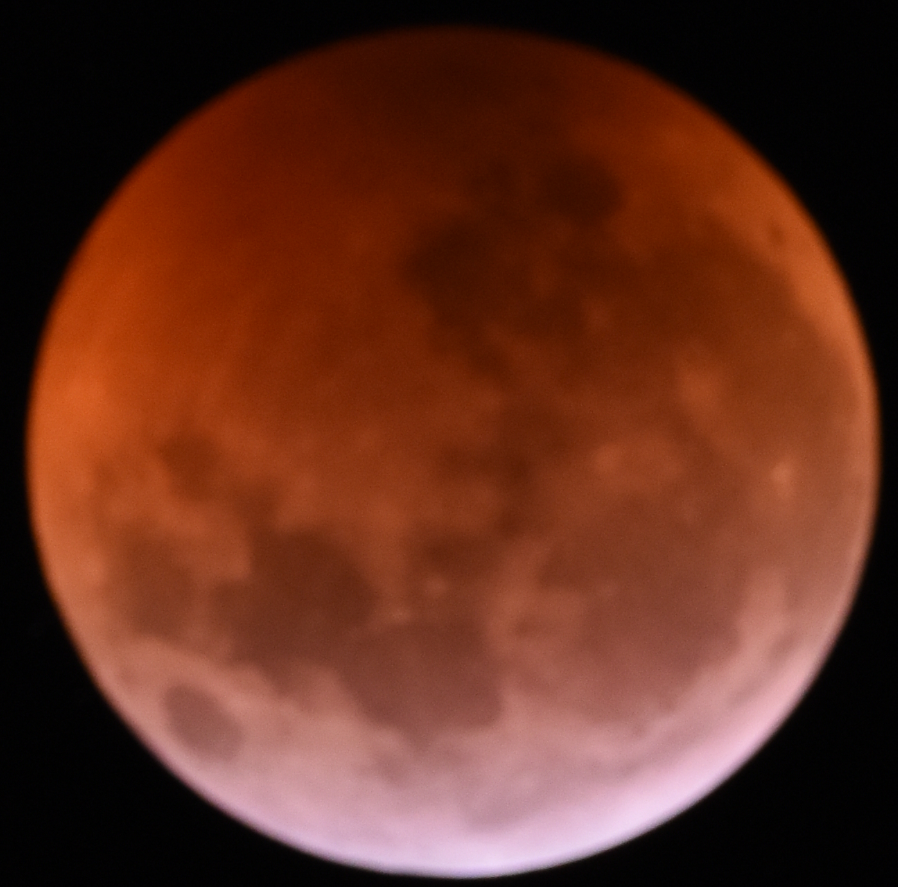crater: (150, 671, 272, 766), (762, 439, 817, 525), (578, 429, 639, 480), (754, 209, 796, 268), (417, 568, 463, 606)
